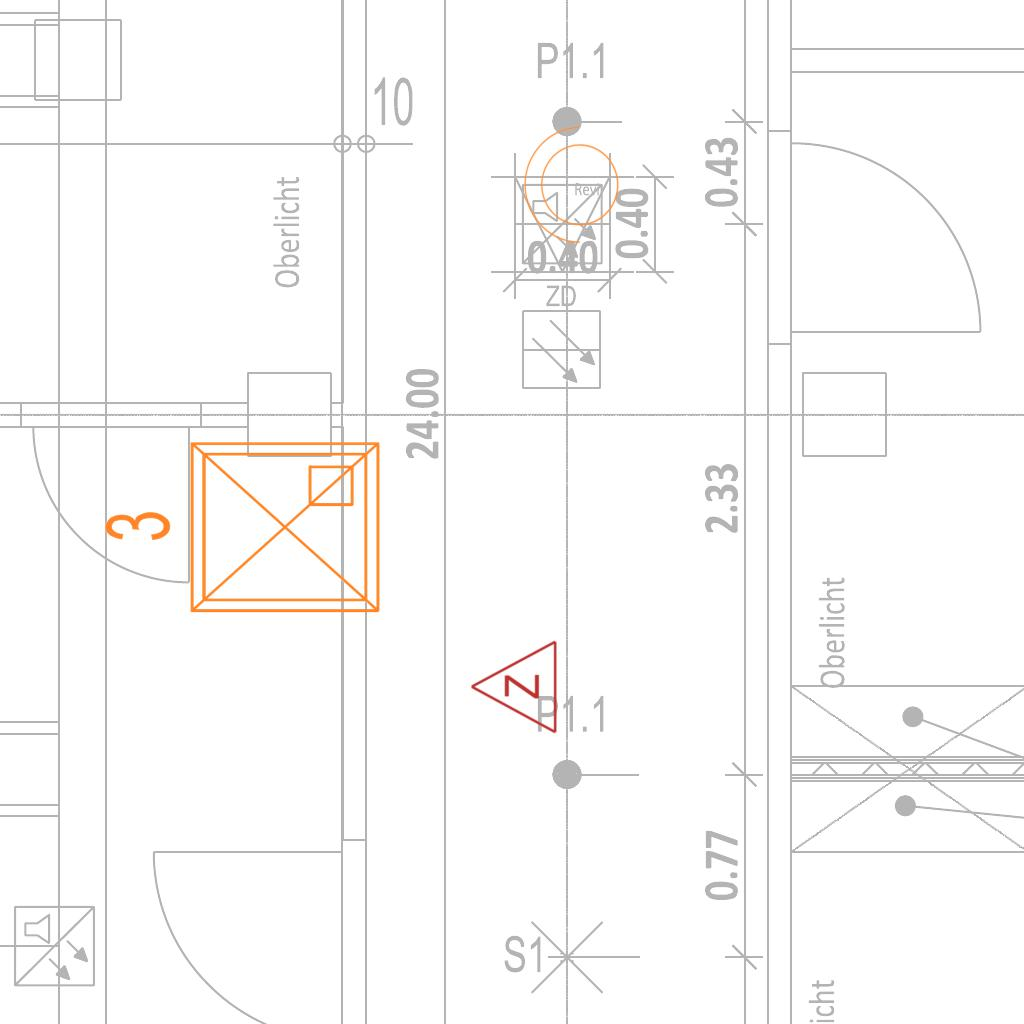Einbaudownlights_LED_Konferenzraeume: (94, 427, 394, 635)
Scheinwerfer_fuer_Alarmbeleuchtung: (519, 122, 631, 254)
Zimmersignalleuchte: (464, 639, 564, 737)
